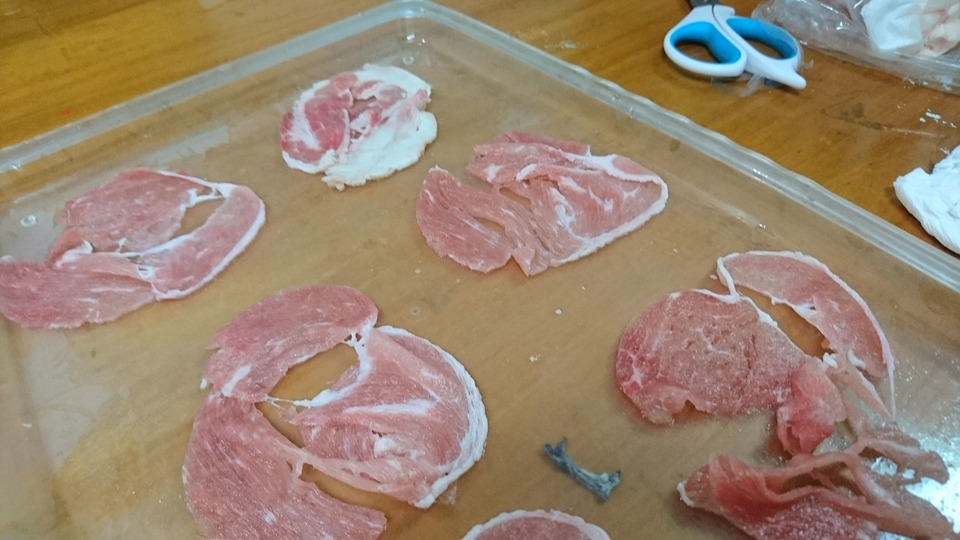restructured meat: (619, 259, 958, 537), (194, 289, 477, 540), (1, 153, 268, 313), (417, 137, 665, 278), (274, 39, 434, 179)
